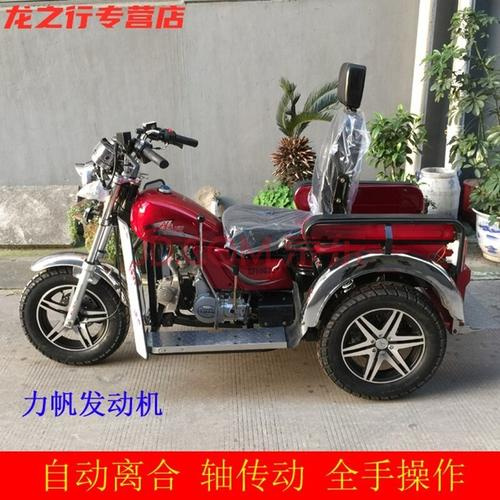overloading: (35, 98, 470, 400)
